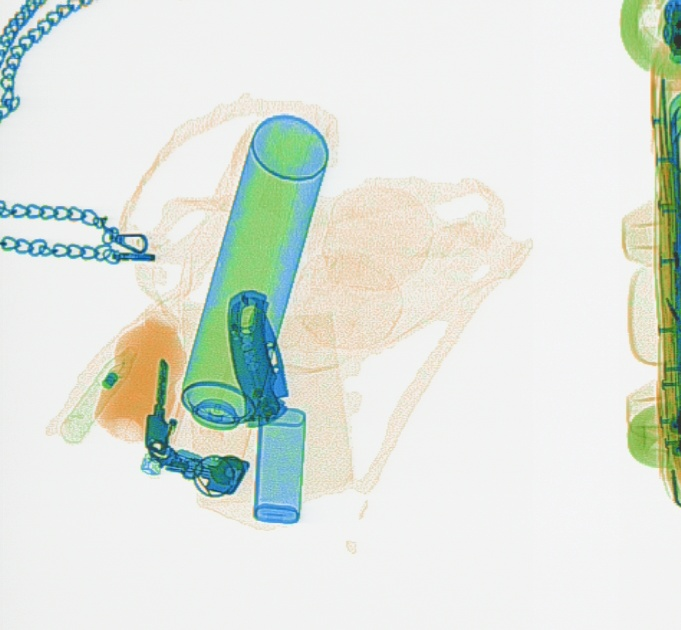knife: (224, 288, 289, 428)
lighter: (137, 346, 203, 478)
pressure: (158, 111, 330, 474)
